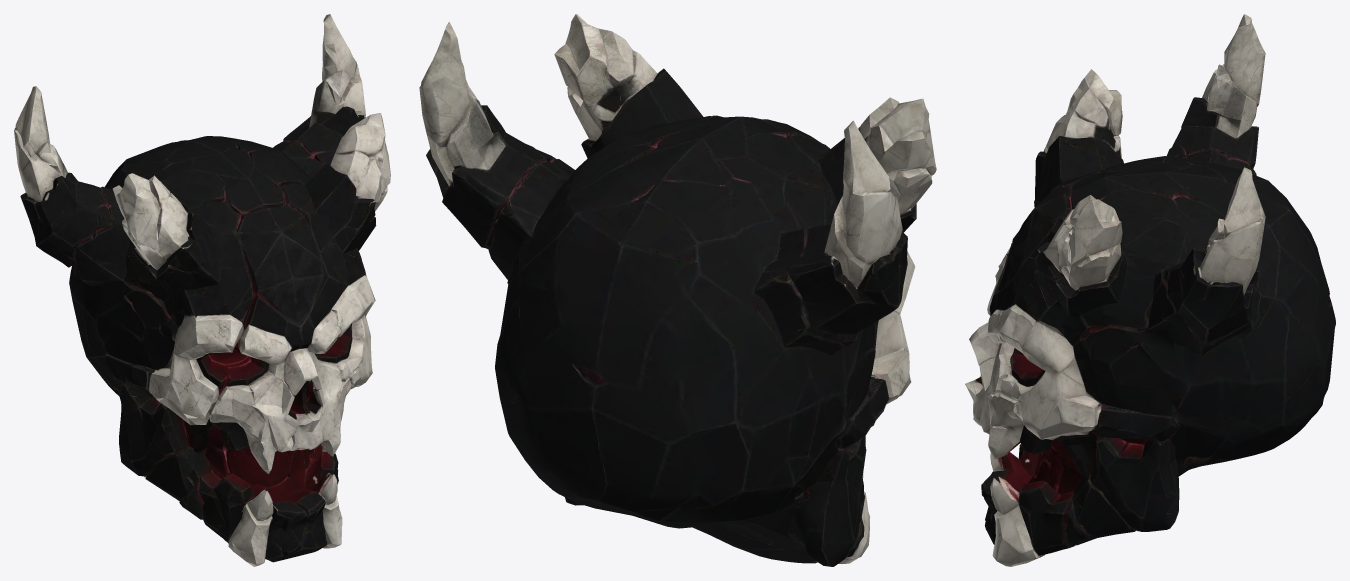
File: leviathan.glb
3 renders of one model, left to right at view 1: azimuth 30°, elevation 25°; view 2: azimuth 150°, elevation 25°; view 3: azimuth 270°, elevation 25°, orthographic. The views are drawn at different scales.
Parts seen in each view (by area): view 1: mesh_node; view 2: mesh_node; view 3: mesh_node.
Boxes of the visible parts, x1,y1,x2,y2 form: mesh_node: [14, 14, 390, 566]; mesh_node: [419, 14, 936, 566]; mesh_node: [965, 14, 1335, 566].
Size of the model in its own units: 1.57 by 1.9 by 1.39.
Materials: 1 (1 with a texture image).
